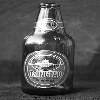beer: (17, 2, 78, 99)
